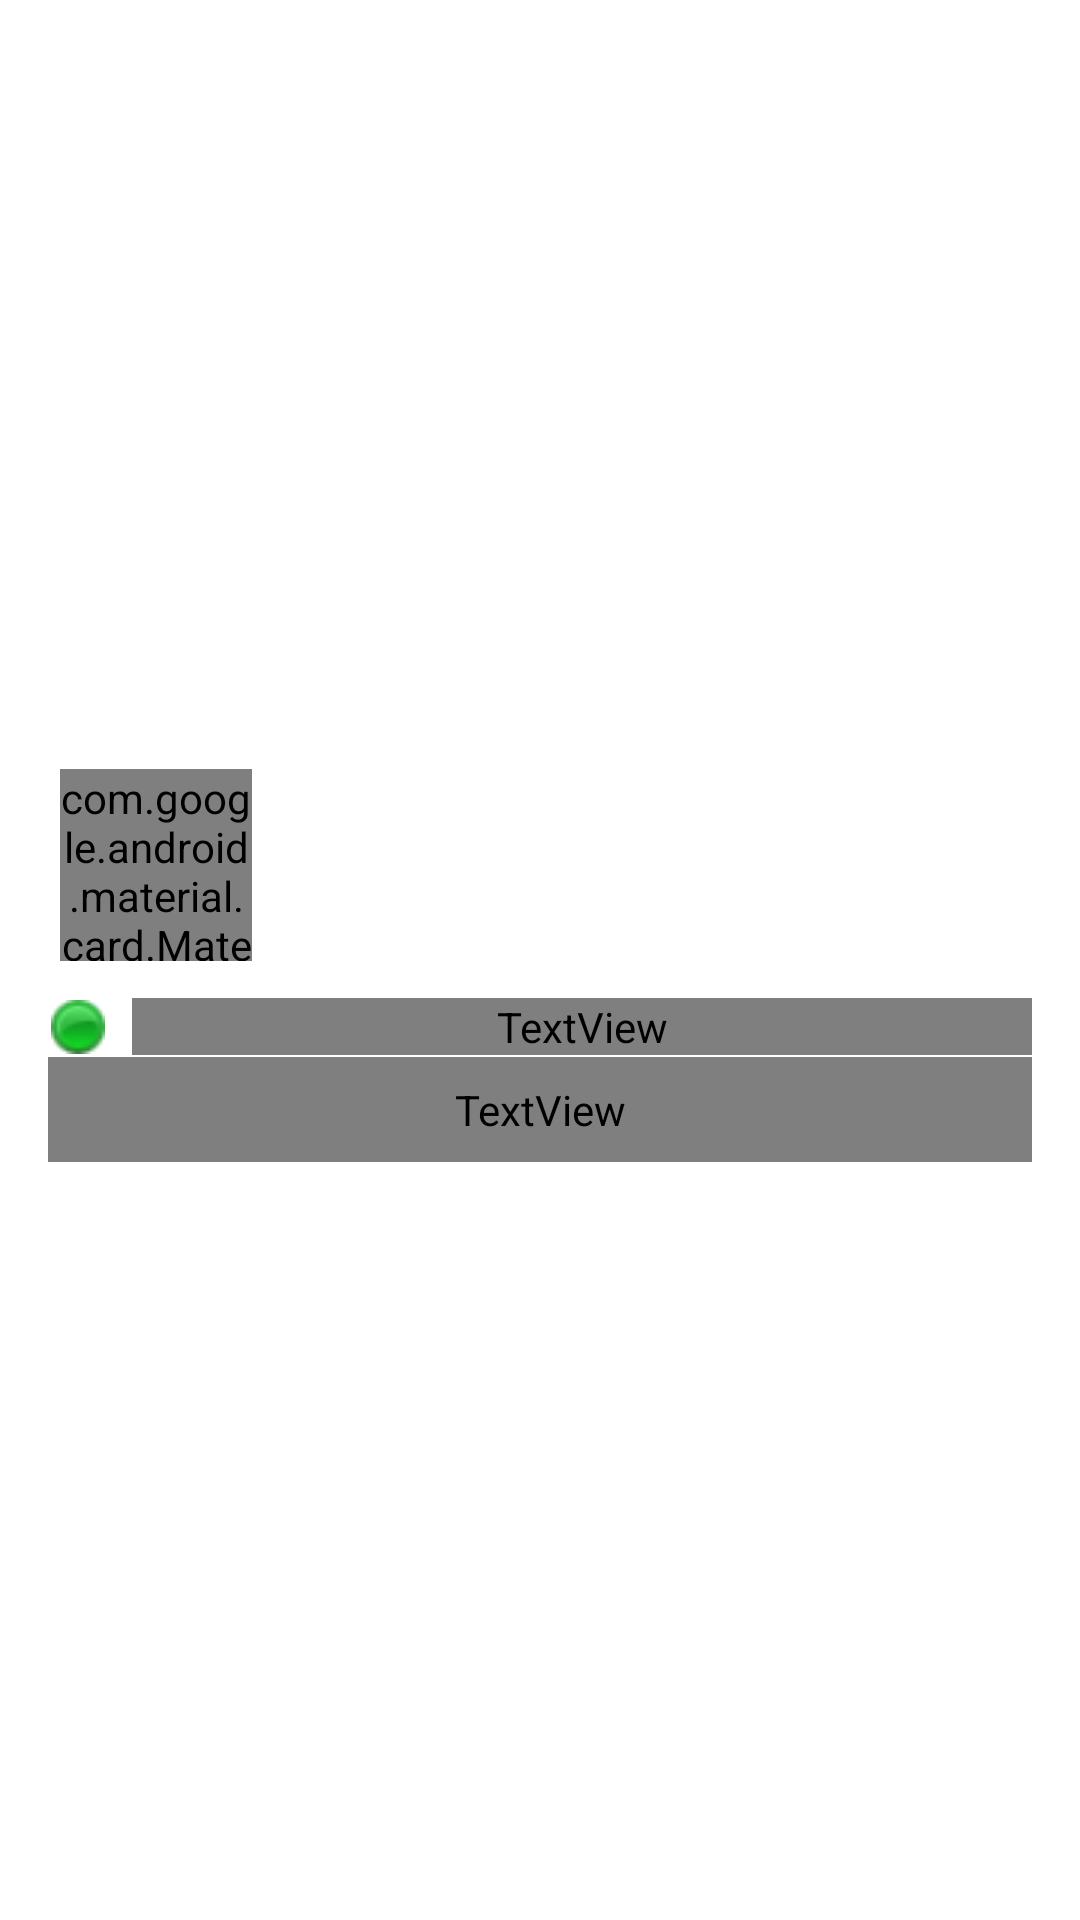

Where icons sit on this 1080 x 1920 app screen, as [x1, y1, x2, y2]:
status: [51, 1000, 105, 1054]
